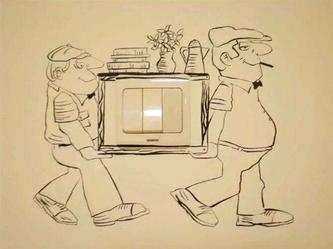switch: (120, 85, 146, 136), (140, 85, 166, 136), (160, 85, 184, 135)
